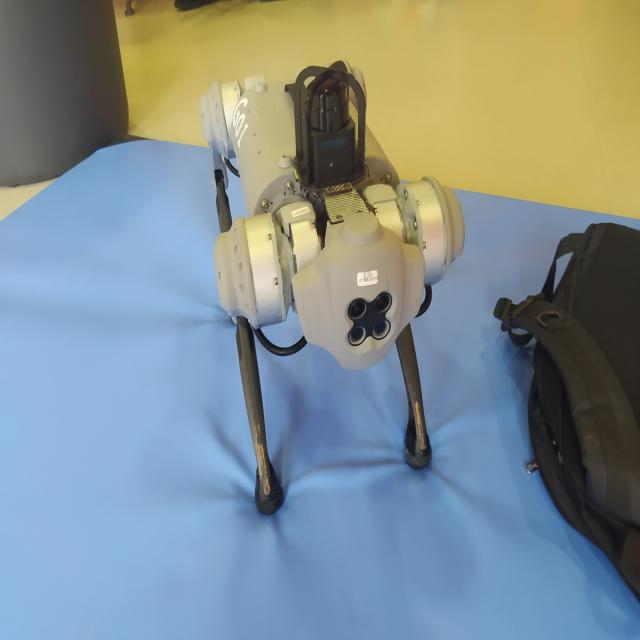unitree-go1-robot: (189, 44, 466, 519)
